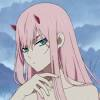zeroTwo: (11, 2, 79, 72)
